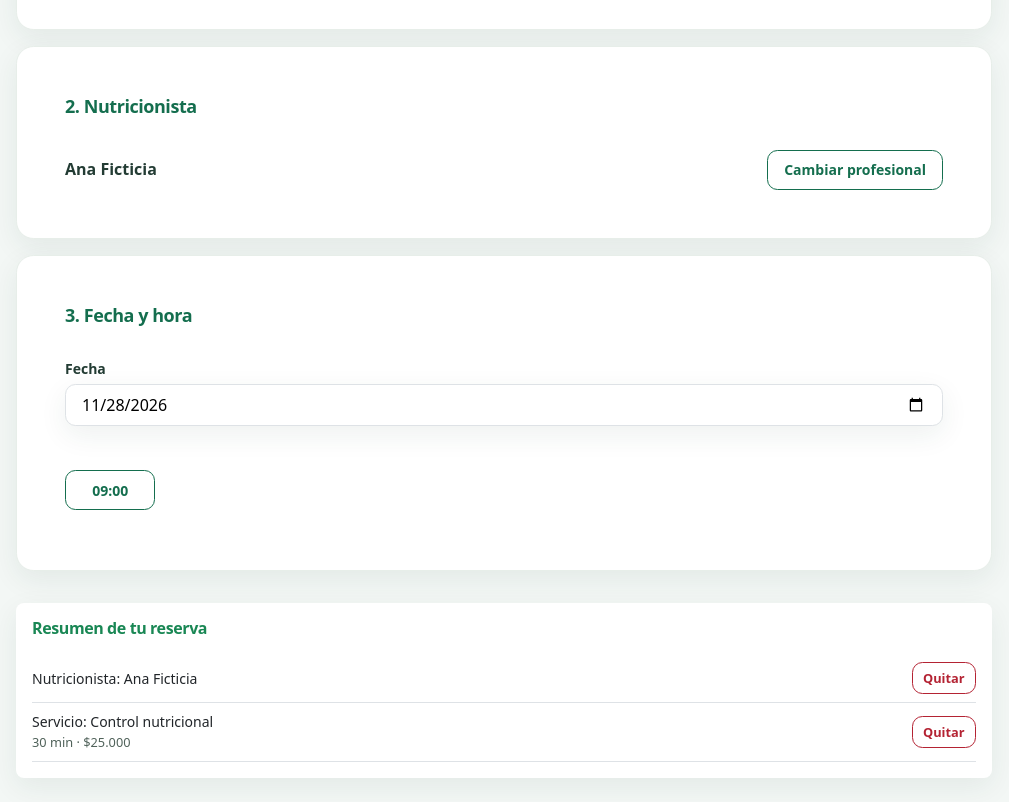
Scenario: Solicitud de cita › exige un motivo antes de enviar y muestra el resumen seleccionado
The image size is (1009, 802).
(page scrolled)
What coordinates should you click on to do the following:
click the button "09:00"
I would click on:
 (110, 490)
Its box is [65, 470, 155, 510].
(page scrolled)
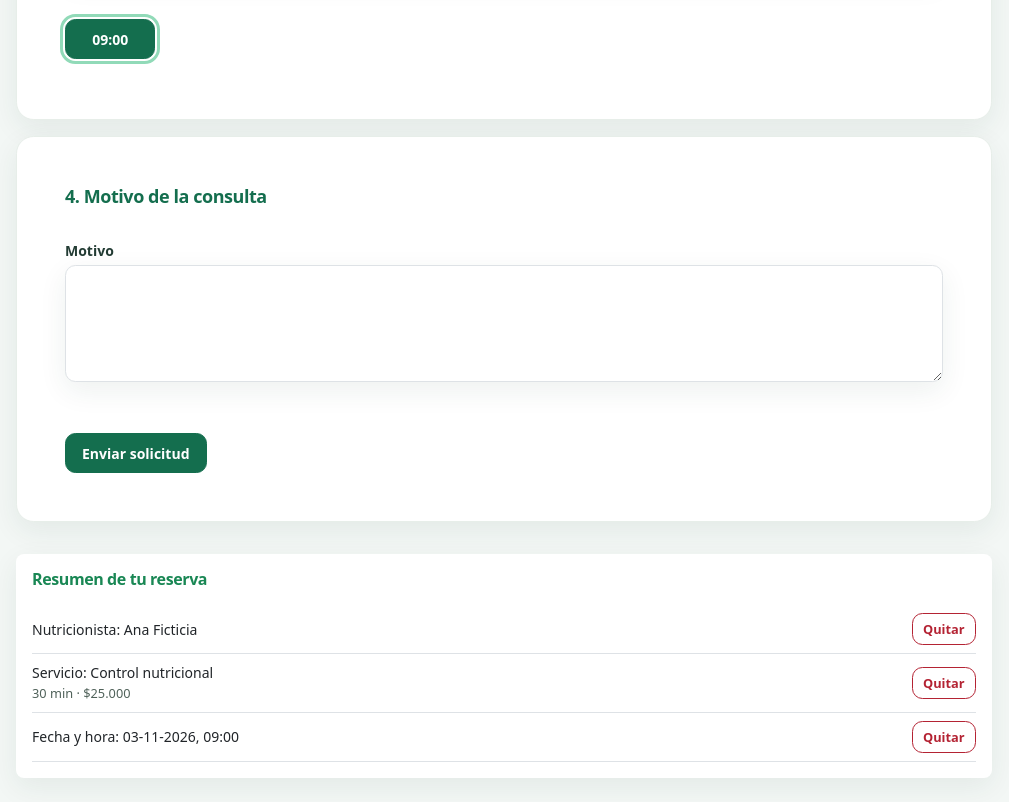
What coordinates should you click on to do the following:
click the button "Enviar solicitud"
I would click on:
 (136, 453)
Its box is [65, 433, 206, 473].
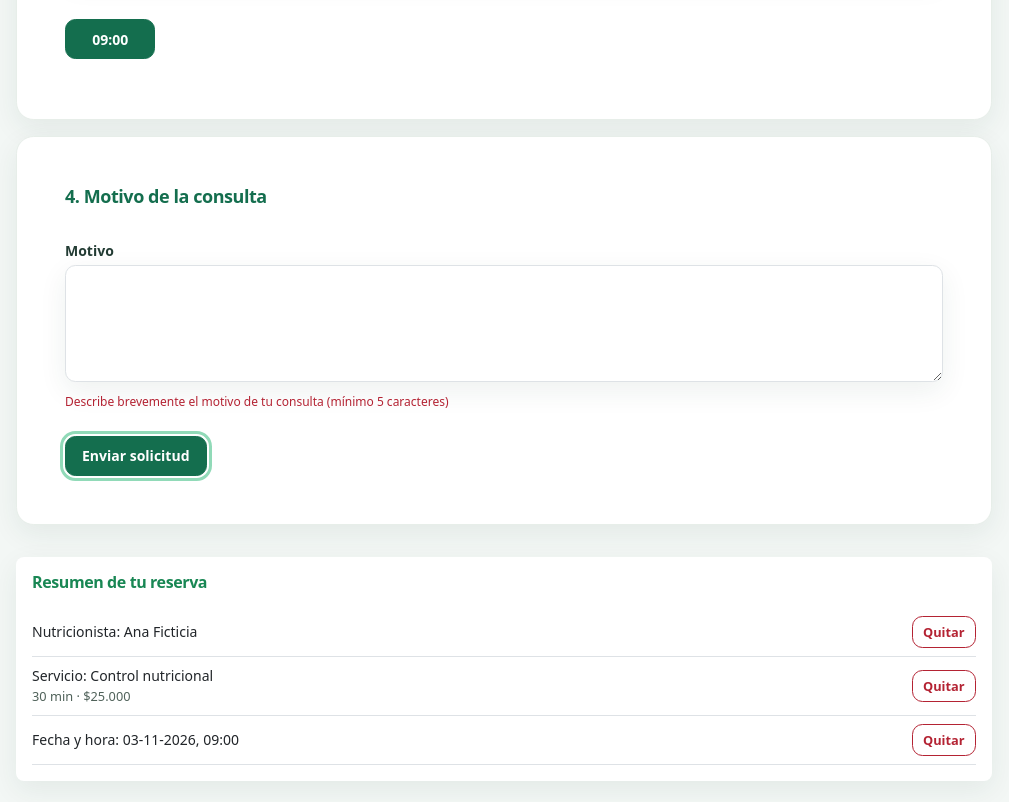
Expected: the text "Nutricionista: Ana Ficticia" is shown, [32, 621, 197, 643]
Expected: the text "Describe brevemente el motivo de tu consulta (mínimo 5 caracteres)" is shown, [65, 393, 448, 410]
